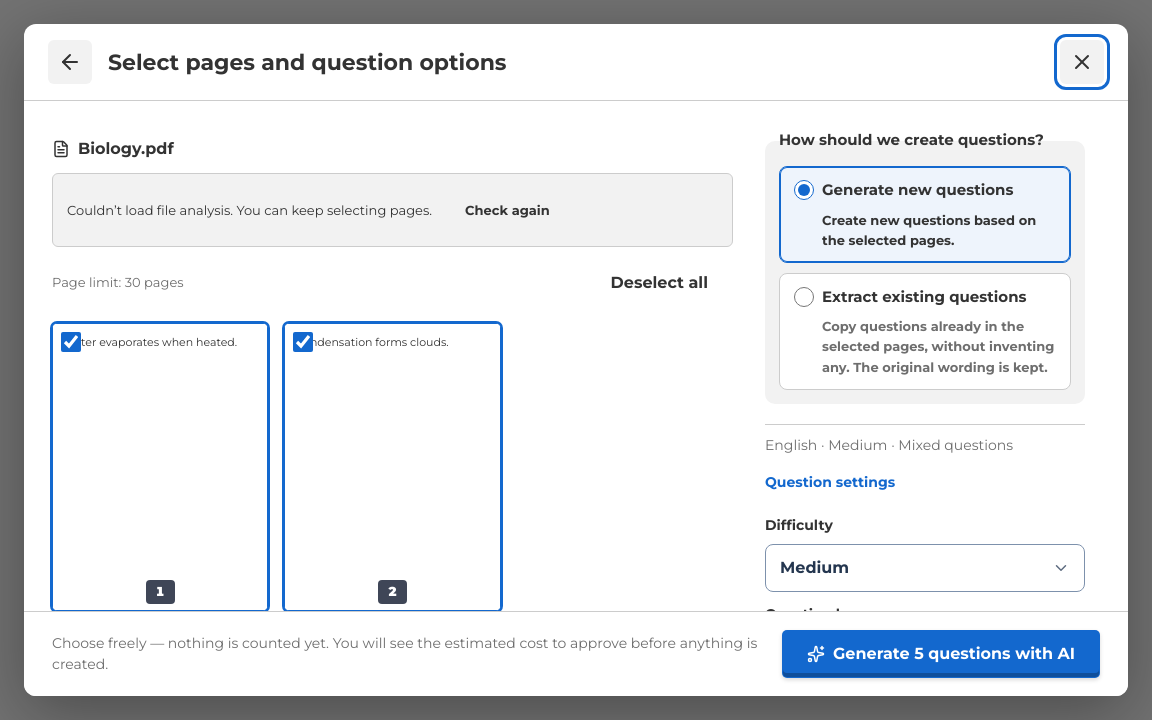
Test case: cancelling the estimate keeps the selection and starts nothing
Step 1. Click the button "Generate 5 questions with AI" → (941, 654), box [782,630,1100,678]
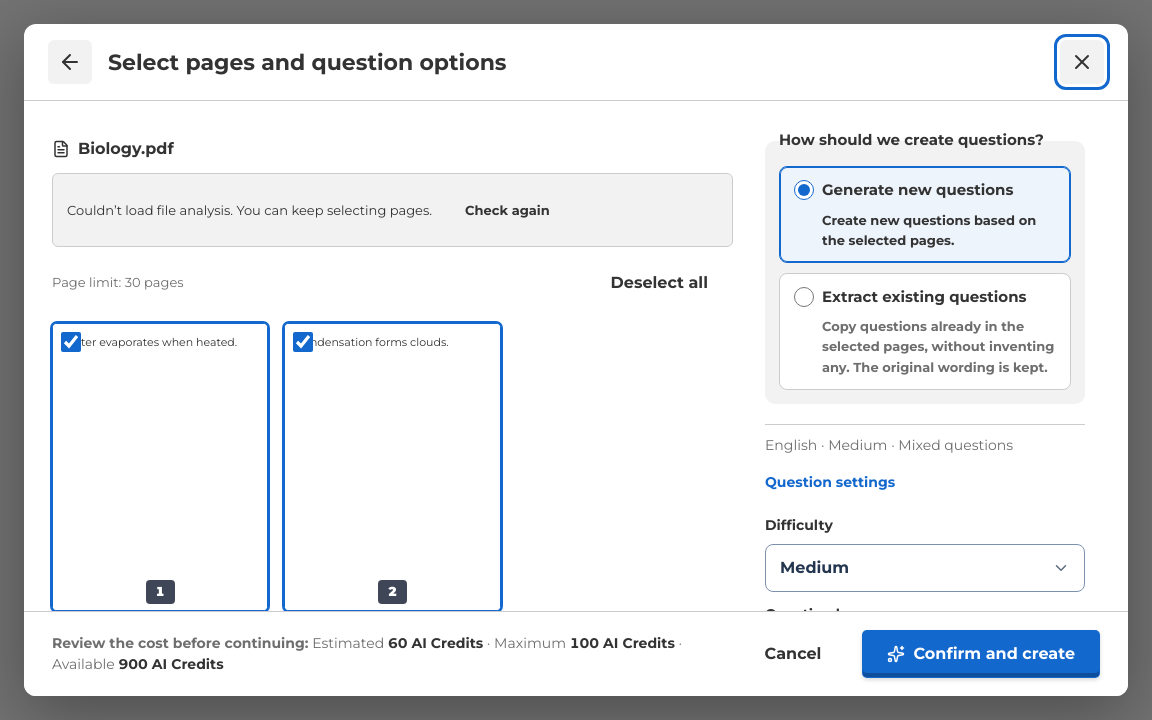
Step 2. Click the button "Cancel" → (793, 654), box [740,630,846,678]
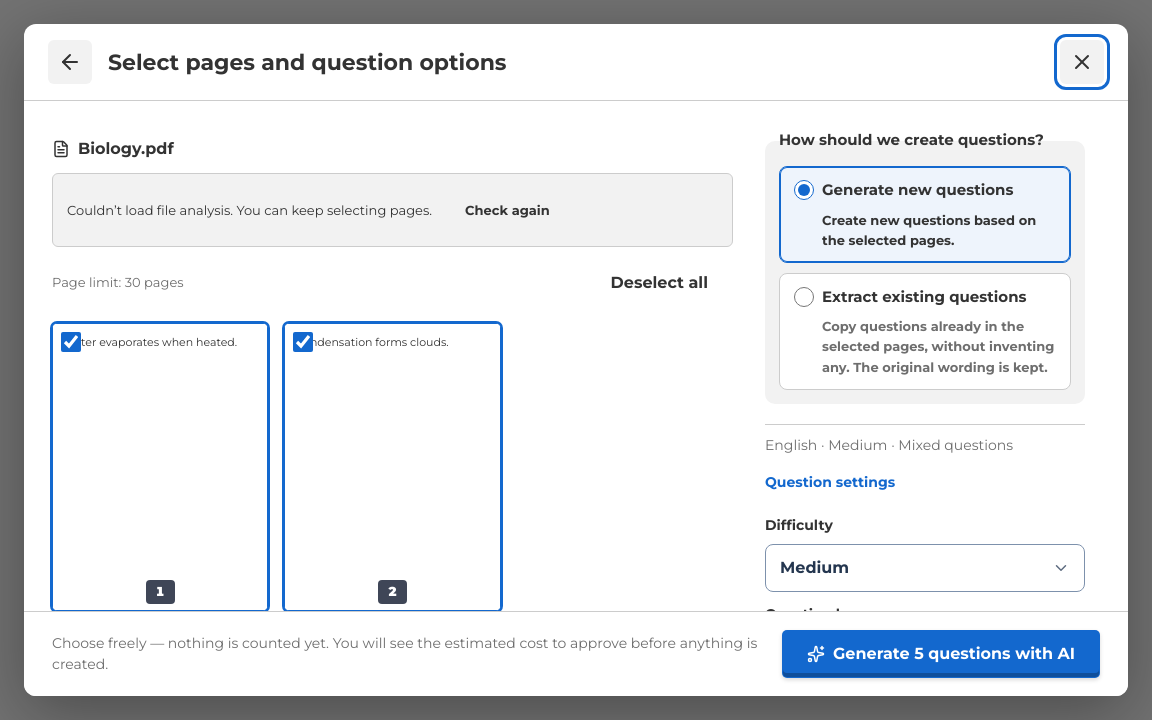
Check: the checkbox named "Page 1" is checked, box [61,332,81,352]
Check: the button "Confirm and create" is gone
